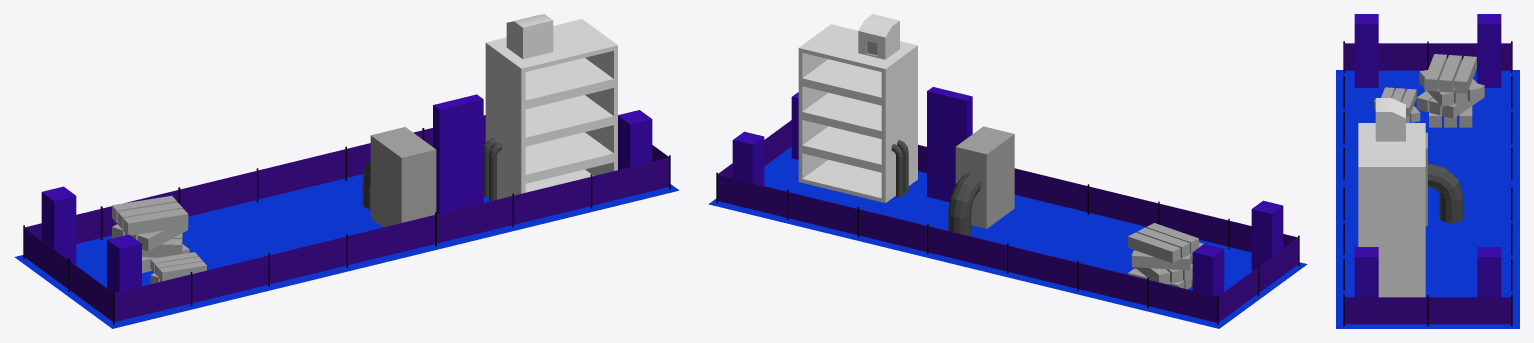
The model's file is 310_blue.fbx.
3 views of the same model, side by side, from view 1: azimuth 30°, elevation 25°; view 2: azimuth 150°, elevation 25°; view 3: azimuth 270°, elevation 25° (orthographic). The views are drawn at different scales.
Parts seen in each view (by area): view 1: pCube229, ree_ree2, pCube228 (×4), pCube227 (×3), pCube233, pCube234, pCube260, pCube265, pCube259, pCube267, pCube264, pCube241 (+12 smaller); view 2: pCube229, ree_ree2, pCube233, pCube234, pCube227 (×2), pCube228 (×2), pCube260, pCube259, pCube262, pCube263, pCube257, pCube258 (+14 smaller); view 3: ree_ree2, pCube229, pCube225, pCube226, pCube264, pCube265, pCube217, pCylinder44, pCube241, pCube266, pCube267, pCube222 (+14 smaller).
Boxes of the visible parts, box(x1,y1,x2,y2) form: pCube229: box(485, 19, 617, 199); ree_ree2: box(14, 144, 679, 328); pCube228 (×4): box(114, 158, 669, 321); pCube227 (×3): box(192, 177, 590, 303); pCube233: box(370, 127, 436, 227); pCube234: box(433, 94, 483, 214); pCube260: box(258, 149, 345, 199); pCube265: box(41, 186, 76, 264); pCube259: box(180, 171, 256, 216); pCube267: box(618, 110, 652, 169); pCube264: box(107, 234, 141, 292); pCube241: box(506, 14, 553, 59); pCube229: box(798, 24, 917, 202); ree_ree2: box(708, 147, 1307, 328); pCube233: box(955, 126, 1014, 228); pCube234: box(927, 87, 972, 202); pCube227 (×2): box(1014, 168, 1228, 246); pCube228 (×2): box(1089, 186, 1297, 252); pCube260: box(928, 226, 1006, 271); pCube259: box(1008, 245, 1077, 288); pCube262: box(788, 192, 857, 234); pCube263: box(717, 175, 786, 217); pCube257: box(1148, 280, 1217, 322); pCube258: box(1078, 263, 1147, 305); ree_ree2: box(1336, 70, 1519, 328); pCube229: box(1358, 123, 1425, 297); pCube225: box(1428, 297, 1511, 324); pCube226: box(1344, 297, 1427, 324); pCube264: box(1354, 14, 1378, 87); pCube265: box(1477, 14, 1501, 87); pCube217: box(1344, 43, 1427, 70); pCylinder44: box(1428, 163, 1463, 223); pCube241: box(1375, 98, 1405, 141); pCube266: box(1477, 247, 1501, 297); pCube267: box(1354, 247, 1378, 297); pCube222: box(1428, 43, 1511, 70).
Bounding box in the file's own units: 10 × 3.04 × 3.
